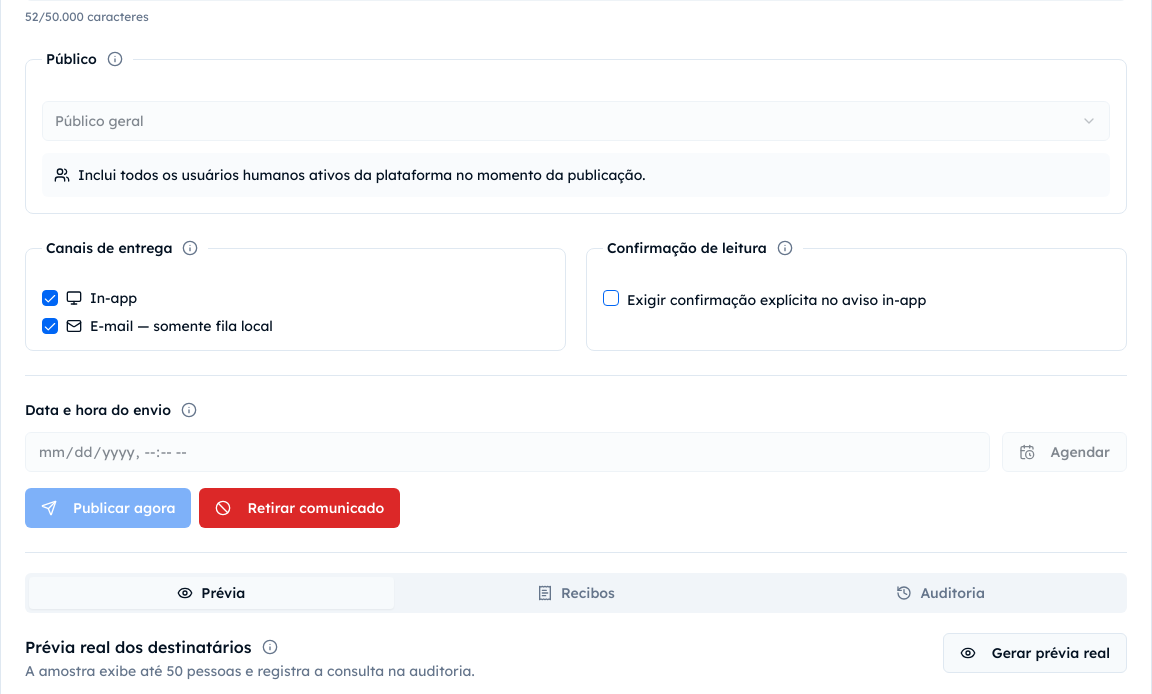
PlatformAnnouncementsPanel › shows local email receipts and the preserved audit trail
(page scrolled)
Press the mouse on the tab "Recibos" at (576, 593), box [394,577,758,609]
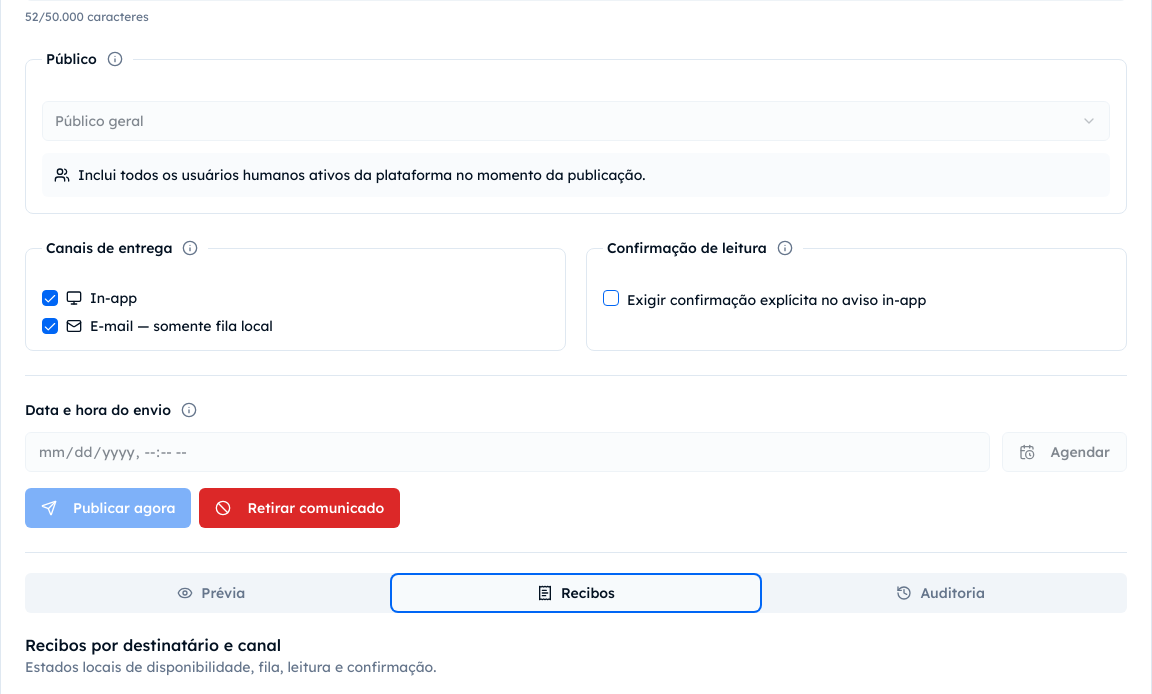
expect the tab "Recibos" has attribute data-state="active": met, box [394,577,758,609]
Press the mouse on the tab "Auditoria" at (941, 593), box [758,577,1123,609]
(page scrolled)
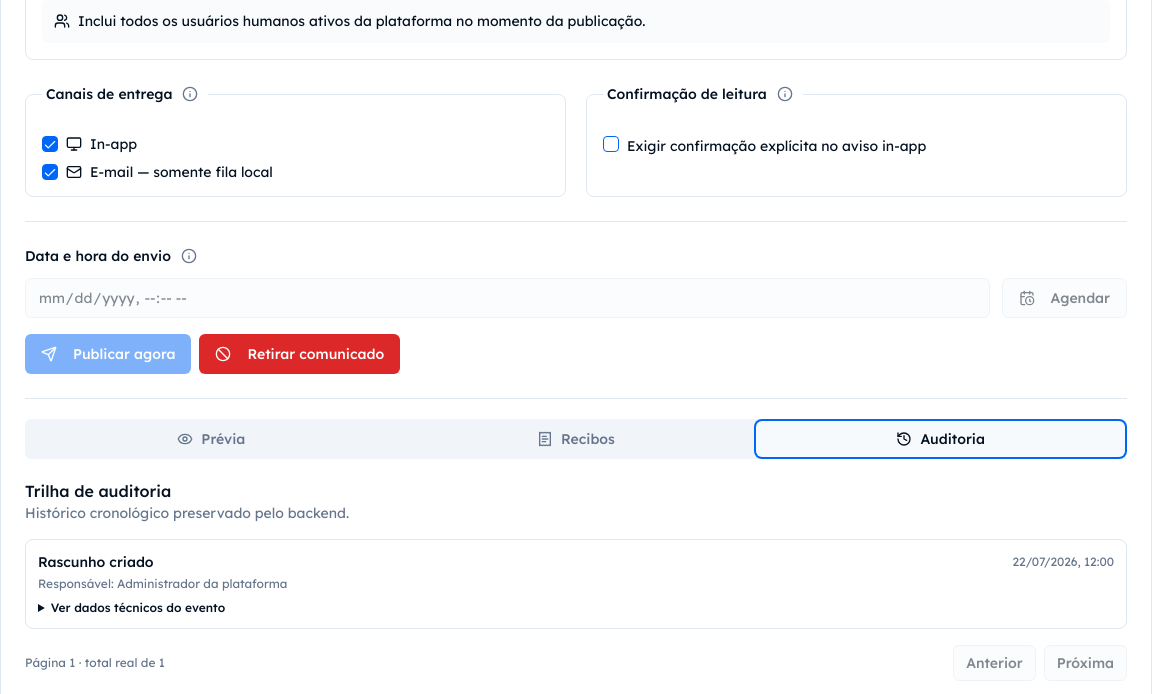
expect the text "Rascunho criado" is shown: met, box [38,552,154,572]
expect the list named "Eventos de auditoria do comunicado" is shown: met, box [25,539,1127,629]
